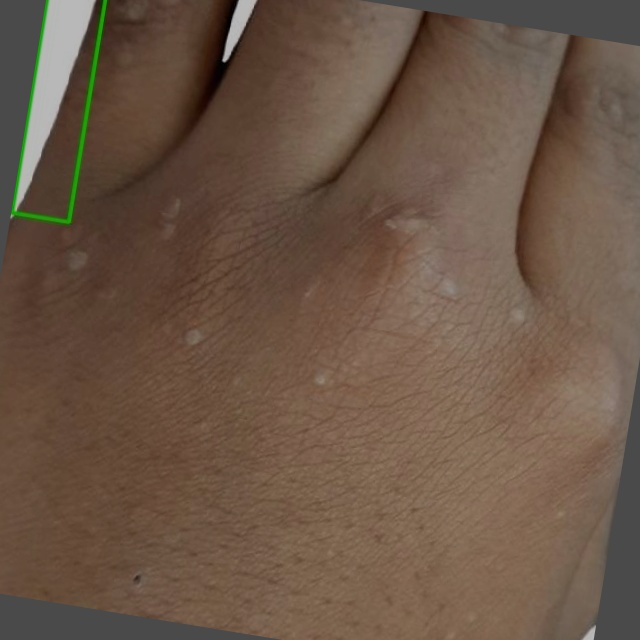Atopic Dermatitis: (11, 0, 106, 221)
